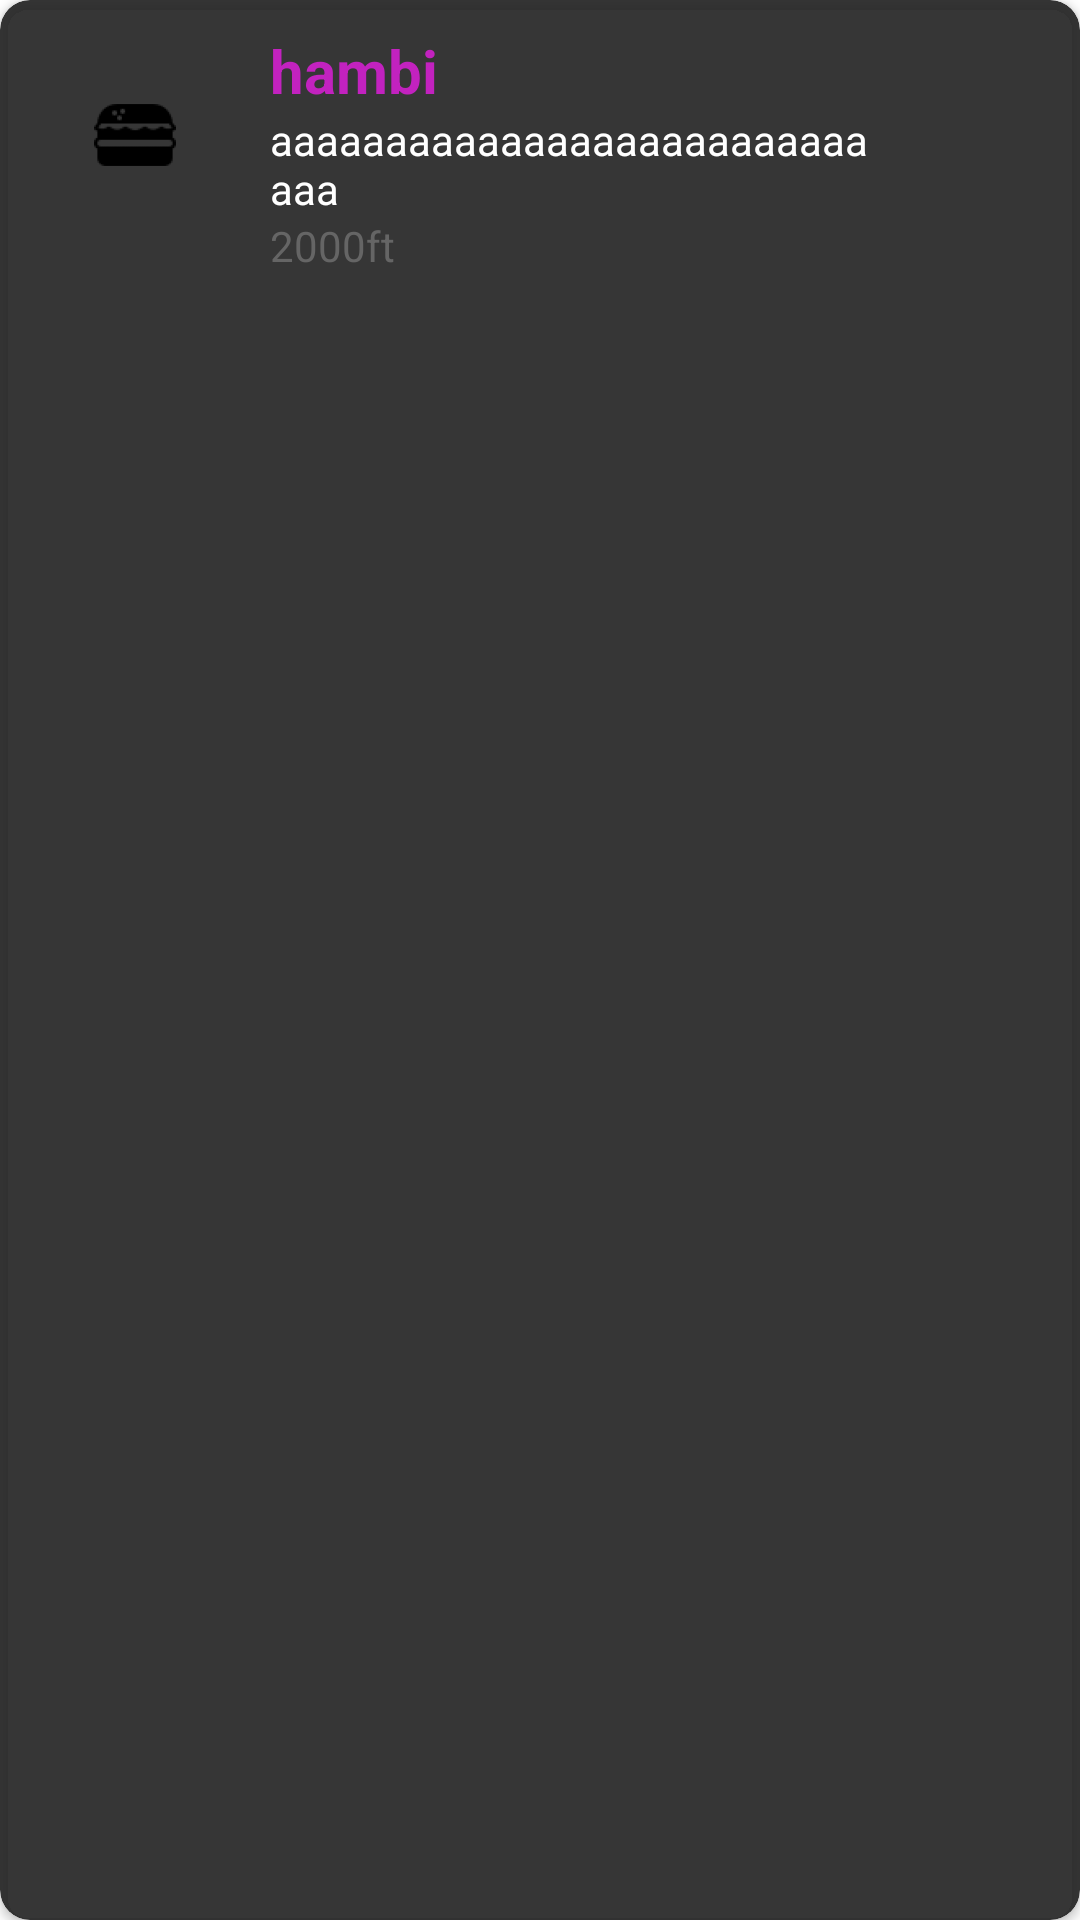

Icons on this 1080w x 1920h Android screen, each with its box as bbox(x1, y1, x2, y2):
hamburg: bbox(94, 104, 176, 166)
